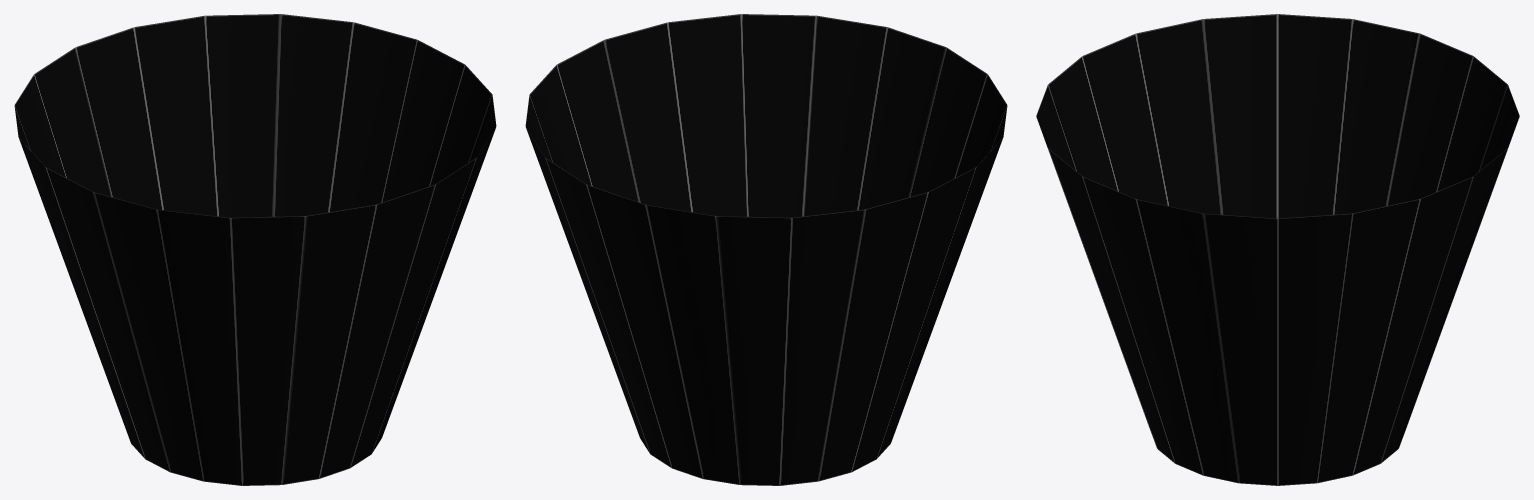
The model's file is shockwave.fbx.
The picture shows the model from 3 angles, left to right: view 1: azimuth 30°, elevation 25°; view 2: azimuth 150°, elevation 25°; view 3: azimuth 270°, elevation 25°; orthographic projection.
Parts seen in each view (by area): view 1: shockwave; view 2: shockwave; view 3: shockwave.
Boxes of the visible parts, bbox=[...] form: shockwave: bbox=[14, 14, 496, 485]; shockwave: bbox=[525, 14, 1007, 485]; shockwave: bbox=[1036, 14, 1519, 485].
Bounding box in the file's own units: 2.63 × 1.89 × 2.63.
Materials: 1 (1 with a texture image).
